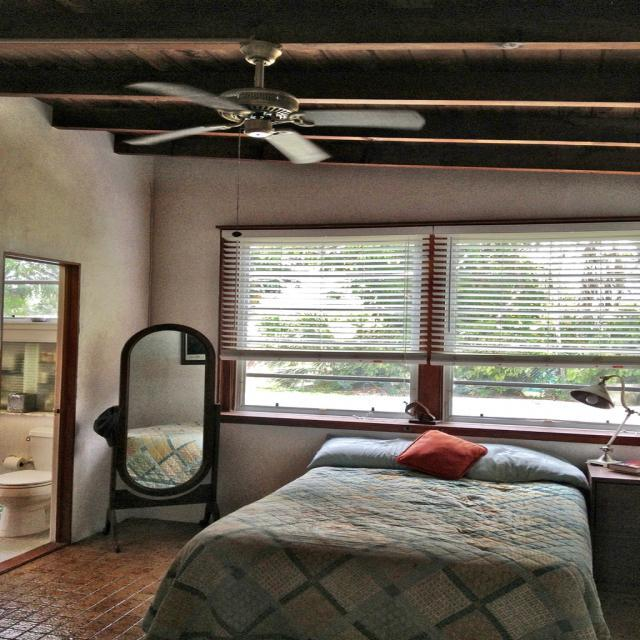fan_on: (124, 38, 435, 164)
